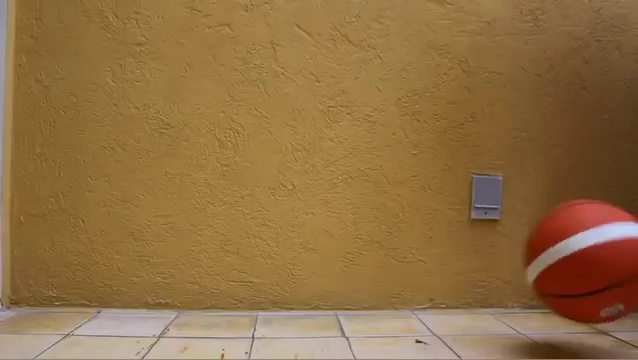ball: (523, 198, 637, 324)
